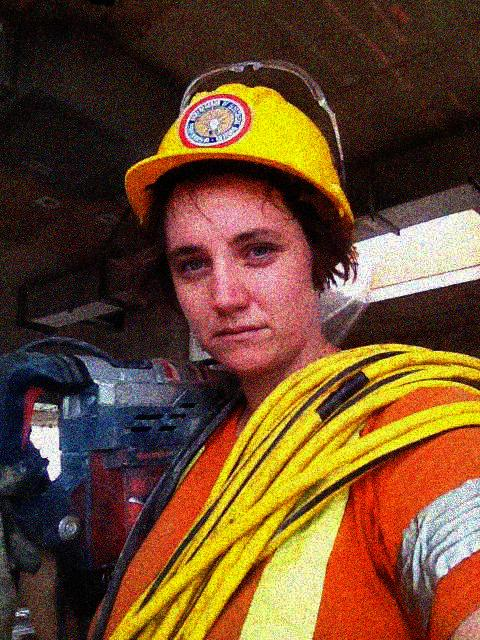helmet: (118, 78, 360, 371)
